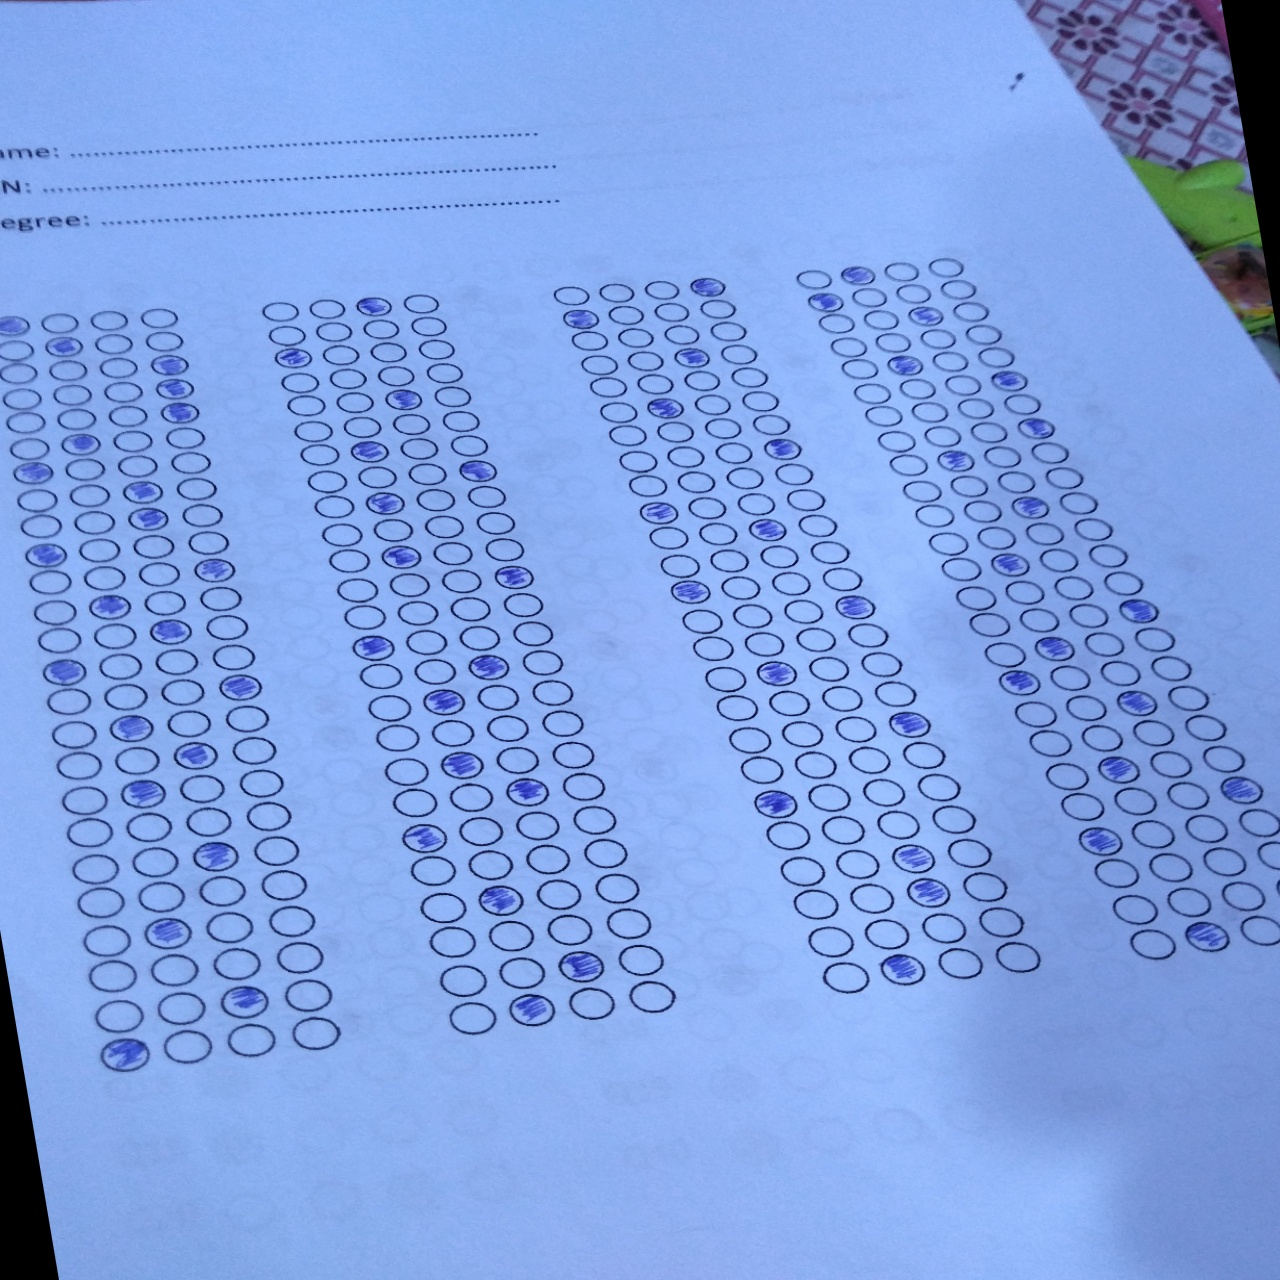not-c: (158, 1026, 215, 1065), (1217, 877, 1276, 914), (1107, 891, 1167, 927), (1121, 926, 1179, 964), (222, 1020, 278, 1058), (200, 908, 257, 947), (1088, 856, 1148, 892), (1162, 881, 1221, 918), (286, 1015, 343, 1053), (86, 958, 142, 995), (152, 989, 209, 1027), (91, 994, 147, 1032), (77, 922, 136, 956), (787, 888, 844, 922), (625, 979, 680, 1014), (602, 906, 658, 941), (772, 853, 828, 888), (859, 775, 914, 810), (493, 954, 550, 988), (856, 915, 913, 948), (120, 810, 175, 844), (577, 835, 632, 869), (613, 942, 668, 976), (565, 983, 620, 1017), (544, 912, 599, 946), (533, 877, 588, 911), (418, 891, 474, 925), (435, 964, 490, 998), (843, 881, 898, 915), (830, 847, 885, 881), (803, 922, 858, 956), (406, 853, 461, 887), (974, 903, 1029, 937), (873, 804, 928, 838), (898, 738, 953, 772), (928, 803, 983, 837), (942, 835, 998, 869), (424, 924, 481, 956), (955, 870, 1012, 903), (265, 905, 319, 939), (132, 881, 186, 915), (990, 940, 1046, 973), (587, 870, 642, 903), (485, 918, 540, 951), (462, 846, 517, 879), (519, 842, 574, 874), (445, 1001, 501, 1034), (933, 947, 988, 980), (818, 960, 873, 993), (919, 913, 974, 946), (910, 770, 965, 803), (250, 833, 302, 867), (129, 844, 182, 878), (282, 978, 335, 1012), (148, 953, 200, 987), (69, 852, 122, 886), (195, 872, 248, 905), (211, 946, 264, 979), (274, 938, 327, 971), (259, 869, 312, 901), (74, 884, 127, 917), (243, 799, 294, 832), (181, 804, 232, 837), (152, 647, 205, 679), (42, 685, 93, 717), (111, 744, 165, 775), (163, 708, 215, 740), (154, 676, 205, 708), (93, 651, 148, 680), (53, 751, 105, 782), (176, 774, 229, 804), (1143, 651, 1193, 682), (207, 641, 261, 670), (61, 816, 113, 846), (1235, 914, 1280, 949), (59, 787, 111, 816), (483, 714, 533, 744), (444, 781, 495, 811), (392, 598, 442, 628), (49, 717, 100, 748), (1016, 605, 1067, 635), (1126, 622, 1177, 653), (202, 612, 253, 641), (452, 816, 504, 845), (427, 719, 478, 748), (388, 788, 440, 817), (832, 715, 884, 744), (813, 563, 865, 592), (1034, 546, 1085, 576), (568, 803, 618, 833), (1024, 726, 1074, 756), (451, 622, 504, 651), (537, 709, 587, 738), (774, 721, 824, 750), (741, 631, 791, 660), (762, 821, 812, 850), (733, 756, 783, 785), (700, 665, 750, 694), (779, 597, 830, 626), (816, 815, 866, 844), (789, 749, 839, 778), (779, 720, 830, 749), (379, 753, 429, 782), (353, 662, 403, 692), (1006, 699, 1056, 728), (843, 617, 893, 646), (857, 648, 907, 678), (872, 679, 922, 708), (901, 741, 952, 770), (1040, 760, 1090, 789), (1046, 663, 1096, 693), (1000, 578, 1050, 607), (1096, 658, 1146, 687), (1160, 778, 1211, 808), (1145, 748, 1196, 777), (1128, 719, 1178, 748), (1182, 712, 1232, 741), (1082, 539, 1132, 568), (806, 535, 857, 564), (401, 629, 452, 658), (101, 683, 152, 712), (1060, 692, 1111, 720), (526, 679, 576, 708), (547, 741, 597, 770), (712, 692, 761, 721), (515, 811, 564, 840), (806, 784, 856, 813), (234, 767, 284, 796), (229, 736, 278, 765), (372, 723, 421, 753), (365, 694, 414, 723), (1146, 851, 1196, 880), (978, 639, 1027, 668), (962, 610, 1012, 639), (948, 584, 998, 613), (1080, 629, 1129, 659), (1051, 574, 1101, 604), (91, 619, 138, 649), (764, 690, 815, 719), (726, 726, 776, 754), (765, 568, 816, 597), (1055, 792, 1105, 821), (818, 685, 869, 713), (843, 744, 893, 772), (1075, 724, 1125, 753), (1180, 813, 1231, 842), (1199, 744, 1250, 772), (1164, 683, 1214, 712), (1063, 513, 1114, 542), (1096, 567, 1146, 595), (444, 594, 493, 622), (492, 745, 542, 774), (474, 685, 523, 713), (560, 772, 610, 801), (726, 602, 775, 631), (689, 636, 738, 665), (220, 704, 270, 733), (410, 656, 459, 685), (1201, 846, 1251, 874), (1126, 819, 1176, 847), (1111, 787, 1160, 815), (937, 554, 986, 583), (922, 527, 972, 556), (1065, 602, 1115, 631), (1233, 806, 1280, 836), (387, 572, 436, 599), (896, 481, 942, 509), (338, 414, 388, 440), (342, 604, 392, 629), (333, 577, 382, 602), (316, 522, 366, 547), (23, 568, 73, 594), (135, 302, 182, 329), (136, 560, 183, 587), (508, 619, 554, 646), (794, 625, 838, 653), (972, 520, 1016, 549), (1001, 389, 1046, 417), (1043, 465, 1088, 493), (69, 510, 120, 535), (171, 476, 219, 502), (256, 298, 304, 324), (311, 493, 359, 519), (141, 590, 189, 615), (678, 608, 726, 634), (956, 496, 1005, 522), (38, 309, 83, 336), (518, 649, 564, 676), (1057, 486, 1101, 515), (1020, 518, 1063, 546), (197, 586, 246, 611), (318, 342, 367, 367), (324, 547, 373, 572), (281, 395, 331, 420), (18, 513, 67, 538), (1, 411, 50, 436), (59, 458, 108, 483), (49, 409, 98, 434), (36, 628, 86, 653), (30, 599, 80, 624), (369, 518, 418, 543), (86, 307, 132, 333), (177, 503, 224, 529), (162, 427, 209, 452), (45, 356, 91, 382), (1, 386, 48, 411), (142, 329, 189, 355), (804, 655, 849, 682), (1029, 440, 1074, 467), (549, 280, 597, 305), (275, 370, 324, 395), (325, 367, 373, 392), (306, 469, 354, 493), (295, 440, 343, 464), (290, 417, 338, 442), (14, 486, 62, 511), (73, 538, 121, 563), (67, 483, 115, 508), (440, 568, 485, 594), (995, 469, 1039, 496), (100, 381, 147, 406), (640, 275, 687, 300), (400, 288, 447, 313), (103, 404, 150, 429), (94, 355, 141, 380), (353, 465, 402, 489), (331, 390, 377, 415), (726, 366, 772, 390), (131, 533, 176, 559), (4, 436, 52, 459), (80, 567, 128, 591), (184, 531, 230, 556), (165, 450, 211, 475), (264, 322, 309, 347), (90, 333, 136, 358), (769, 459, 815, 484), (847, 381, 893, 406), (934, 275, 980, 300), (301, 295, 348, 319), (481, 537, 527, 560), (413, 488, 459, 511), (576, 354, 622, 377), (747, 413, 794, 436), (930, 350, 976, 374), (978, 444, 1024, 468), (568, 328, 613, 353), (885, 452, 930, 477), (872, 427, 917, 451), (946, 476, 990, 501), (499, 593, 545, 617), (440, 409, 485, 433), (406, 461, 451, 484), (584, 375, 629, 399), (595, 400, 641, 423), (731, 491, 777, 515), (712, 440, 757, 463), (685, 497, 730, 520), (652, 420, 697, 443), (782, 488, 828, 511), (719, 341, 764, 365), (896, 375, 941, 399), (924, 256, 969, 279), (309, 321, 358, 343), (368, 340, 413, 363), (359, 316, 403, 340), (472, 511, 517, 535), (433, 386, 477, 409), (652, 420, 696, 443), (658, 554, 702, 578), (701, 416, 745, 440), (689, 392, 734, 415), (706, 549, 753, 571), (695, 522, 740, 545), (757, 544, 802, 567), (907, 400, 952, 423), (954, 395, 999, 418), (968, 418, 1013, 442), (920, 425, 965, 449), (974, 343, 1019, 367), (421, 362, 467, 384), (448, 433, 493, 455), (422, 515, 468, 537), (420, 513, 465, 536), (625, 474, 670, 496), (613, 449, 659, 471), (631, 372, 676, 394), (621, 350, 667, 373), (645, 526, 690, 549), (670, 471, 716, 493), (708, 321, 754, 343), (795, 512, 840, 535), (911, 504, 956, 526), (826, 338, 872, 360), (50, 384, 94, 408), (737, 388, 781, 411), (860, 403, 904, 427), (410, 338, 458, 359), (390, 411, 435, 434), (375, 365, 420, 387), (396, 437, 441, 459), (431, 540, 476, 563), (606, 423, 651, 445), (724, 467, 769, 489), (683, 369, 728, 392), (719, 576, 763, 598), (663, 445, 708, 468), (836, 358, 880, 380), (961, 321, 1006, 343), (102, 381, 144, 404), (1, 362, 41, 387), (407, 315, 450, 338), (464, 486, 508, 509), (940, 374, 983, 396), (111, 430, 154, 452), (949, 301, 994, 322), (594, 281, 638, 302), (915, 328, 959, 349), (813, 312, 857, 333), (791, 268, 835, 290), (116, 455, 157, 477), (651, 300, 692, 322), (1, 338, 38, 362), (602, 304, 645, 325), (614, 328, 656, 349), (881, 260, 924, 281), (870, 332, 914, 352), (892, 281, 935, 301), (847, 286, 891, 306), (860, 309, 903, 329), (661, 324, 702, 343), (697, 299, 738, 319), (1252, 840, 1280, 869)
taken-c: (95, 1037, 159, 1073), (503, 989, 560, 1028), (872, 952, 932, 988), (1180, 919, 1239, 955), (899, 874, 959, 910), (215, 983, 274, 1017), (553, 948, 612, 982), (139, 917, 198, 949), (1073, 824, 1126, 858), (100, 714, 161, 743), (881, 709, 938, 741), (189, 839, 241, 871), (888, 843, 942, 873), (477, 884, 529, 915), (1091, 754, 1143, 785), (345, 633, 399, 662), (1216, 774, 1268, 803), (1110, 688, 1160, 719), (1028, 634, 1080, 663), (985, 549, 1036, 578), (215, 672, 265, 701), (399, 823, 450, 851), (116, 778, 168, 806), (465, 654, 516, 682), (21, 540, 72, 568), (438, 750, 489, 778), (1114, 595, 1164, 624), (998, 667, 1046, 696), (84, 593, 136, 620), (826, 594, 880, 620), (503, 778, 554, 805), (421, 689, 472, 716), (749, 789, 801, 816), (171, 741, 223, 768), (36, 334, 89, 360), (349, 291, 401, 316), (39, 658, 88, 685), (53, 431, 105, 456), (147, 352, 195, 377), (147, 618, 195, 644), (156, 401, 204, 427), (116, 481, 165, 505), (5, 461, 54, 485), (751, 661, 801, 686), (125, 508, 173, 532), (636, 501, 685, 525), (189, 557, 237, 581), (932, 449, 980, 474), (881, 353, 930, 377), (151, 376, 197, 402), (1009, 493, 1053, 520), (558, 306, 605, 331), (685, 274, 731, 299), (760, 437, 806, 462), (379, 544, 425, 568), (362, 491, 409, 516), (669, 346, 716, 370), (744, 518, 794, 542), (1012, 415, 1058, 440), (641, 395, 689, 418), (667, 581, 715, 605), (489, 565, 537, 588), (455, 459, 505, 482), (345, 440, 394, 462), (905, 302, 951, 326), (270, 347, 318, 369), (987, 369, 1035, 390), (835, 264, 881, 285), (801, 290, 847, 311), (382, 389, 425, 411), (1, 313, 38, 338), (1272, 870, 1280, 906)
